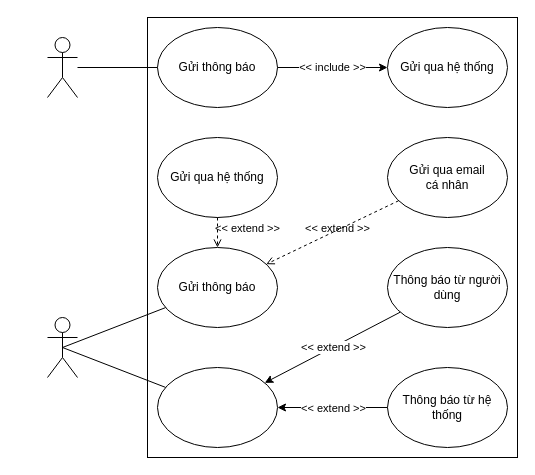
This 535x475 diagram has some shape labels left out. Here are the shapes that lost their labels. From the top down, the centre of each, then its label:
(62,67): Người mua hàng
(62,347): Nhà bán hàng
(217,407): Nhận thông báo
